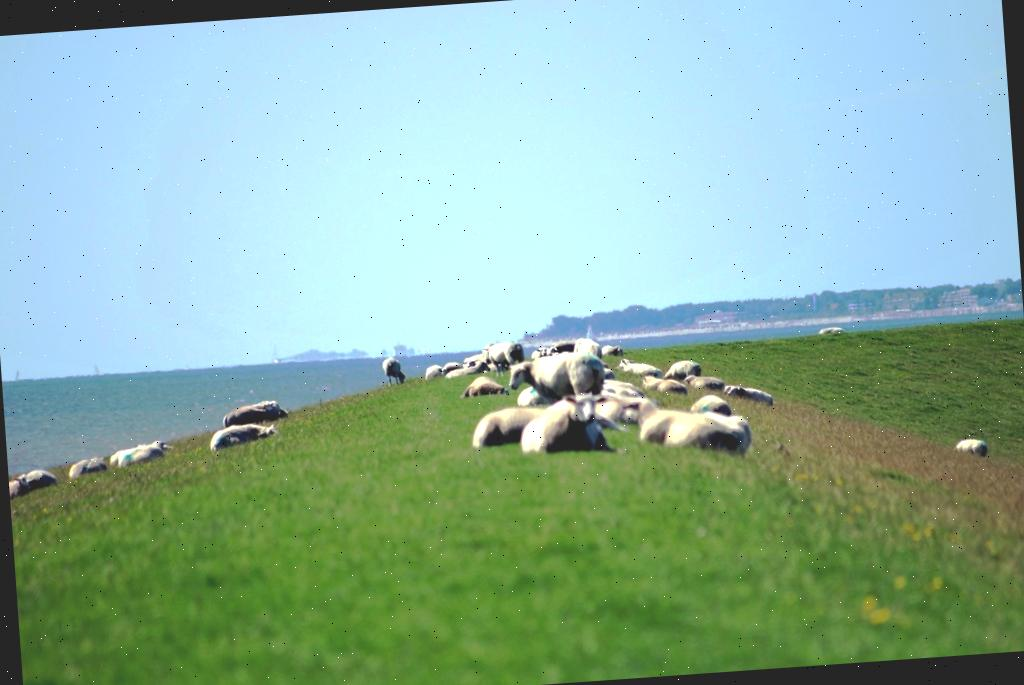Sheep: (622, 389, 752, 468), (516, 390, 616, 455), (502, 346, 608, 406), (468, 404, 548, 450), (478, 339, 526, 374), (460, 370, 510, 400), (948, 435, 992, 457), (617, 354, 660, 376), (664, 358, 700, 381)
